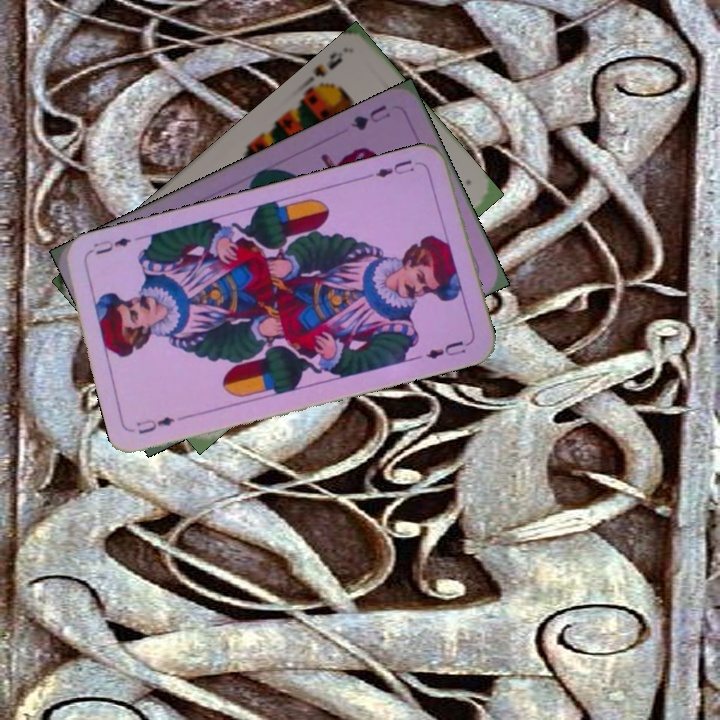EU: (371, 155, 423, 181), (132, 412, 177, 437)
GU: (346, 100, 393, 133)
S9: (298, 47, 346, 93)
